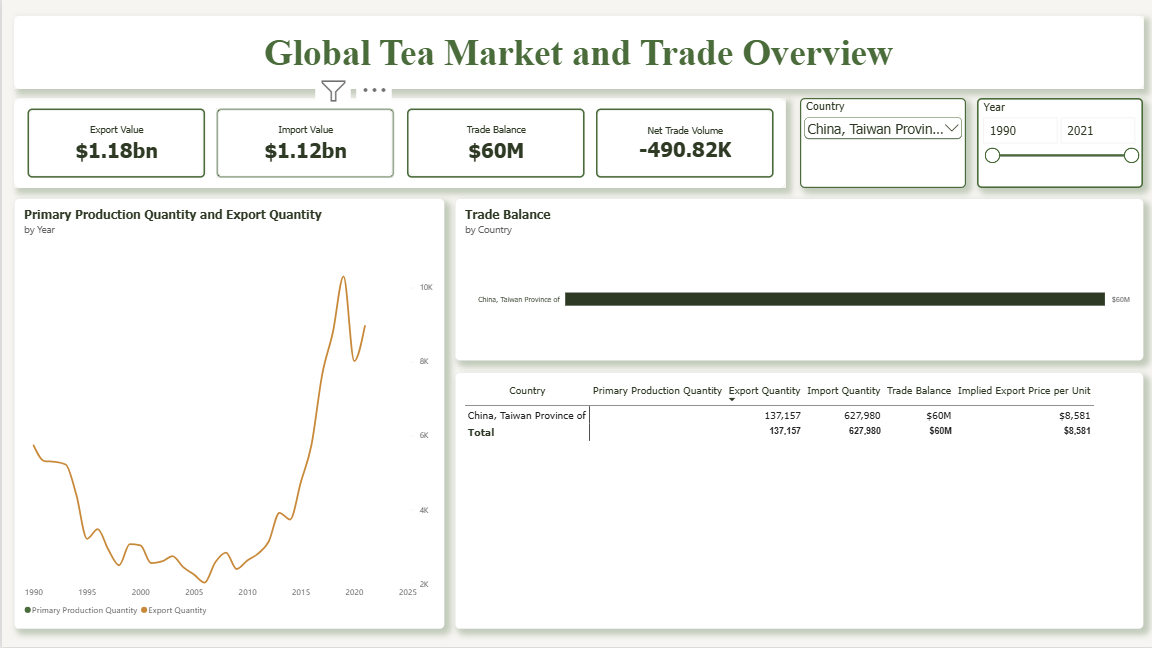

What the dashboard file says about the page in this screenshot:
{"tool":"powerbi","page":{"name":"Page 1","canvas":[1920,1080],"ordinal":0},"visuals":[{"type":"shape","box":[19.1,164.6,1286,150.3],"z":0},{"type":"lineChart","fields":{"Category":["Dim_Date.Year"],"Y":["_Measures.Primary Production Quantity"],"Y2":["_Measures.Export Quantity"]},"box":[20,332.5,717.5,717.5],"z":1000},{"type":"clusteredBarChart","fields":{"Category":["Dim_Country.Country"],"Y":["_Measures.Trade Balance"]},"box":[755,332.5,1147.5,270],"z":2000},{"type":"pivotTable","fields":{"Rows":["Dim_Country.Country"],"Values":["_Measures.Primary Production Quantity","_Measures.Export Quantity","_Measures.Import Quantity","_Measures.Trade Balance","_Measures.Implied Export Price per Unit"]},"box":[755,622.5,1147.5,427.5],"z":3000},{"type":"slicer","fields":{"Values":["Dim_Country.Country"]},"box":[1329,164.6,276.8,150.3],"z":4000},{"type":"slicer","fields":{"Values":["Dim_Date.Year"]},"box":[1624.8,164.6,276.8,150.3],"z":5000},{"type":"shape","box":[20,27.5,1882.5,122.5],"z":6000},{"type":"cardVisual","fields":{"Data":["_Measures.Export Value"]},"box":[42.5,182.5,296.2,115],"z":7000},{"type":"cardVisual","fields":{"Data":["_Measures.Import Value"]},"box":[356.2,182.5,296.2,115],"z":8000},{"type":"cardVisual","fields":{"Data":["_Measures.Trade Balance"]},"box":[673.8,182.5,296.2,115],"z":9000},{"type":"cardVisual","fields":{"Data":["_Measures.Net Trade Volume"]},"box":[990,182.5,296.2,115],"z":10000}]}

Visuals, with their boxes in screenshot pixels (x1, y1, x2, y2), scaled from the page's 1920x1080 canvas onto the 1152x648 screenshot:
shape: detection(11, 99, 783, 189)
lineChart - Dim_Date.Year x _Measures.Primary Production Quantity: detection(12, 200, 442, 630)
clusteredBarChart - Dim_Country.Country x _Measures.Trade Balance: detection(453, 200, 1142, 362)
pivotTable - Dim_Country.Country x _Measures.Primary Production Quantity: detection(453, 374, 1142, 630)
slicer - Dim_Country.Country: detection(797, 99, 963, 189)
slicer - Dim_Date.Year: detection(975, 99, 1141, 189)
shape: detection(12, 16, 1142, 90)
cardVisual - _Measures.Export Value: detection(26, 110, 203, 178)
cardVisual - _Measures.Import Value: detection(214, 110, 391, 178)
cardVisual - _Measures.Trade Balance: detection(404, 110, 582, 178)
cardVisual - _Measures.Net Trade Volume: detection(594, 110, 772, 178)
